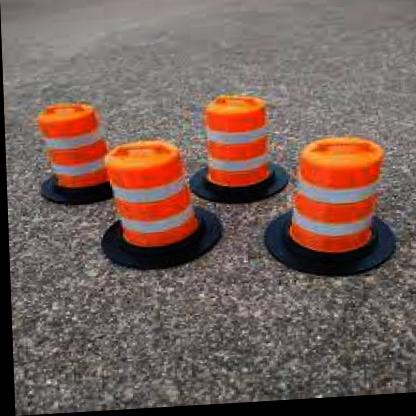obstacle: (97, 142, 198, 254), (296, 137, 383, 266), (198, 98, 281, 201), (37, 103, 108, 188)
